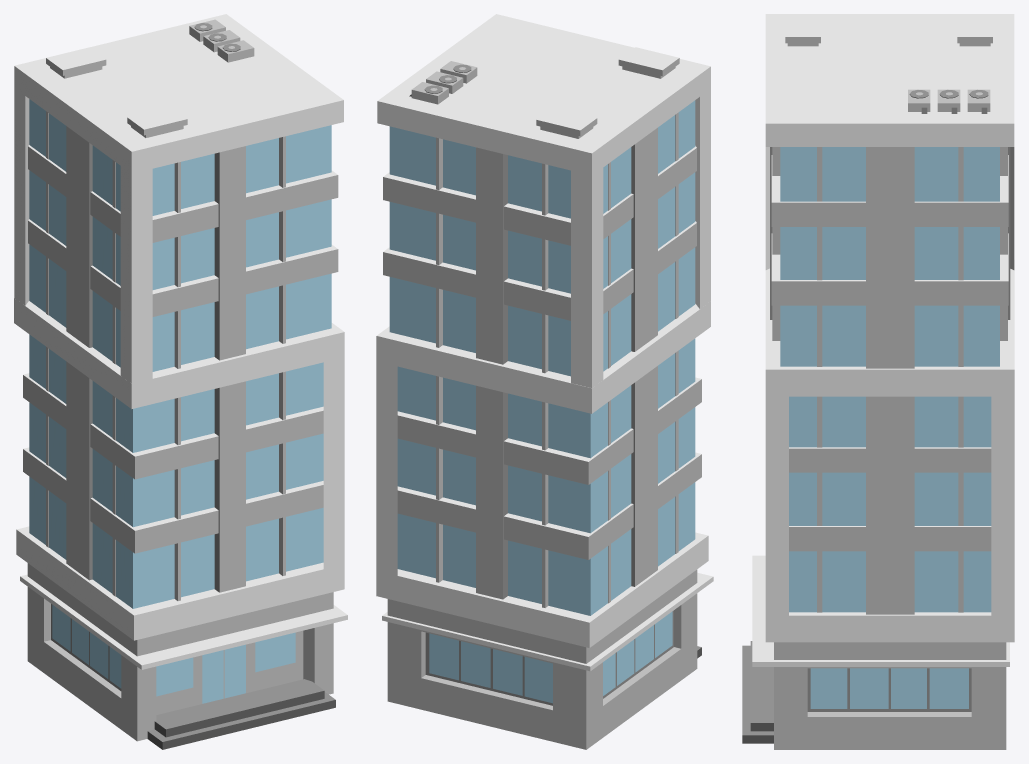
The model's file is house_middle_005.fbx.
3 renders of one model, left to right at view 1: azimuth 30°, elevation 25°; view 2: azimuth 150°, elevation 25°; view 3: azimuth 270°, elevation 25°, orthographic. The views are drawn at different scales.
Visible parts, largest first — view 1: house_middle_005; view 2: house_middle_005; view 3: house_middle_005.
Boxes of the visible parts, left/top/right/bottom form: house_middle_005: left=14, top=14, right=347, bottom=749; house_middle_005: left=376, top=14, right=713, bottom=749; house_middle_005: left=742, top=14, right=1014, bottom=749.
Size of the model in its own units: 721 by 1957 by 754.
